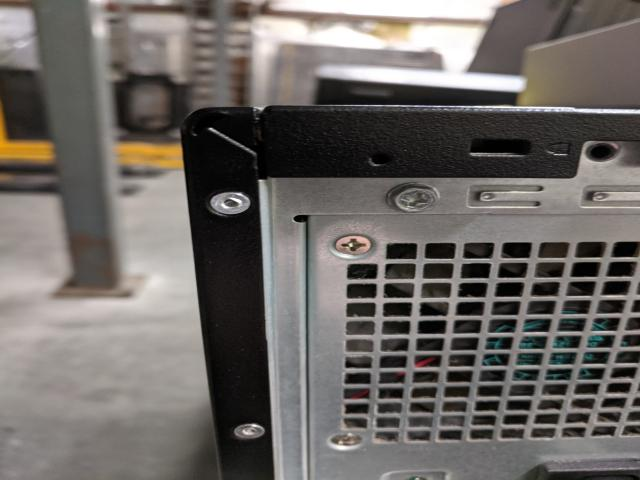CRS: (388, 182, 440, 214), (332, 231, 378, 259), (331, 430, 364, 449)
